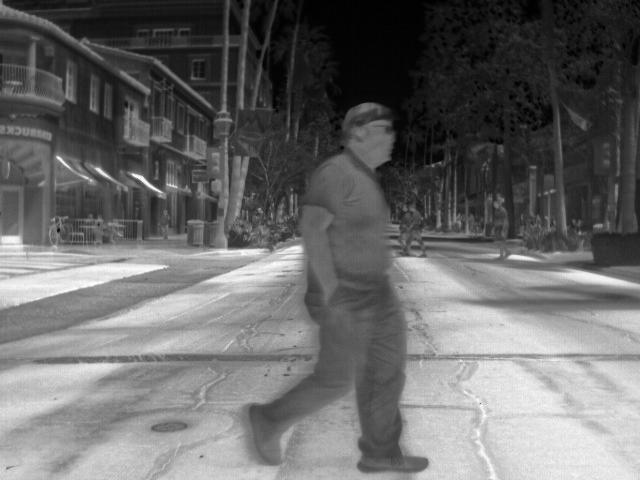person: (248, 101, 430, 472), (400, 203, 428, 259), (489, 200, 511, 260), (399, 204, 412, 258), (159, 208, 173, 241), (516, 213, 528, 240)
